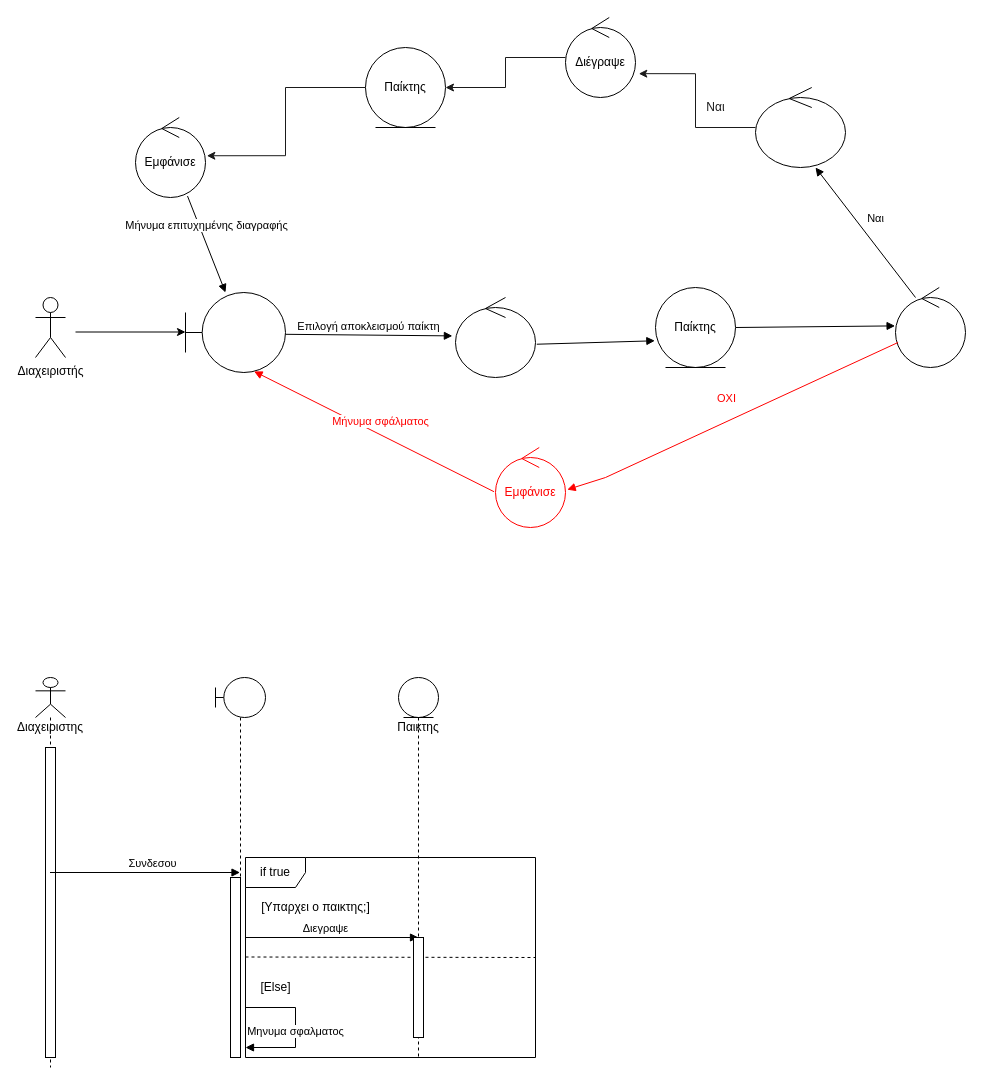
Some shapes in this 983 by 1085 pixel diagram are drawn without their labels. Here are the shapes that lost their labels. From the top down, the centre of each, then its label:
the point at 800,127: ολοκλήρωση αποκλεισμου΄;
the point at 235,332: Οθόνη Διαχειριστή
the point at 495,337: Αναζητησε
the point at 930,327: Υπάρχει ο παίκτης;
the point at 240,867: Οθονη Διαχειριστη
